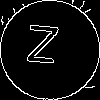Z: (25, 25, 59, 73)
